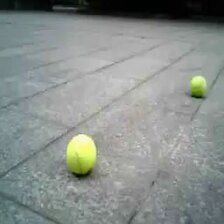tennis: (65, 134, 96, 173), (190, 76, 205, 96)
